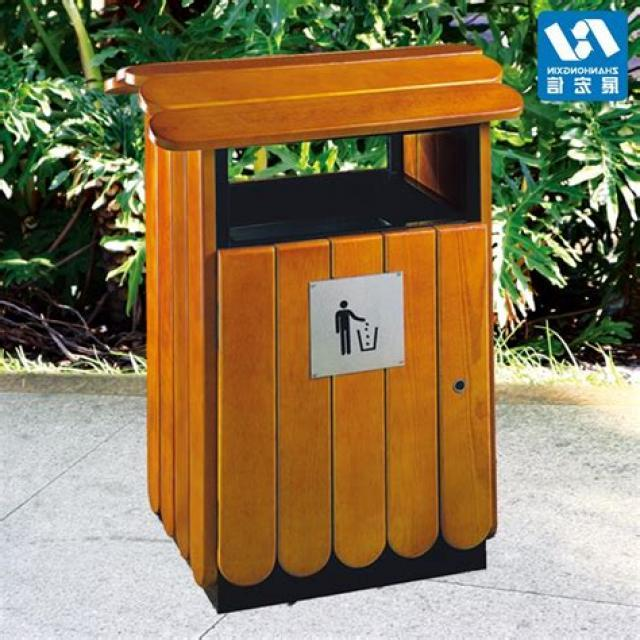garbage container: (118, 30, 530, 605)
